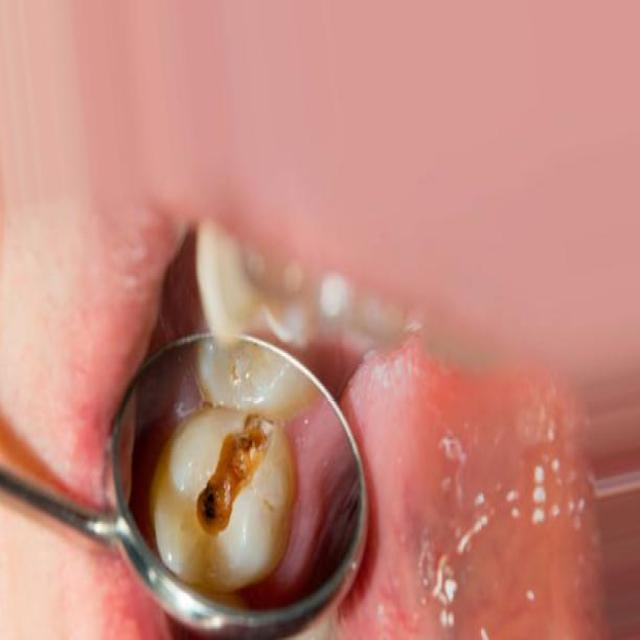caries: (177, 384, 295, 573)
